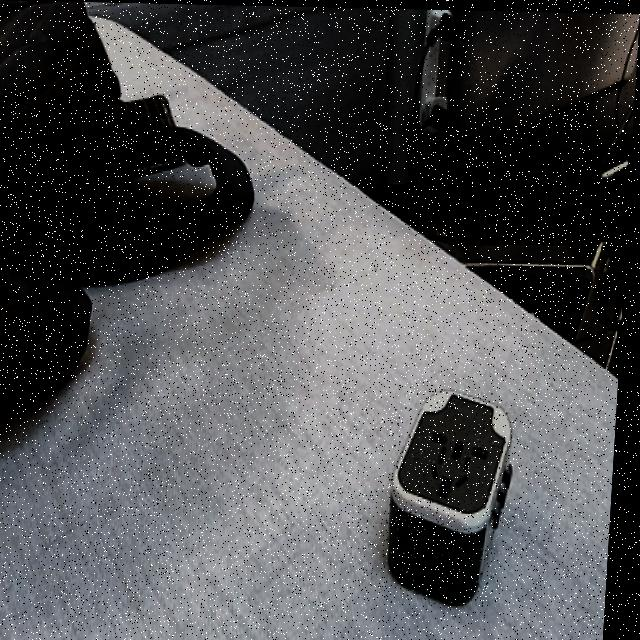adapter: (388, 384, 522, 604)
